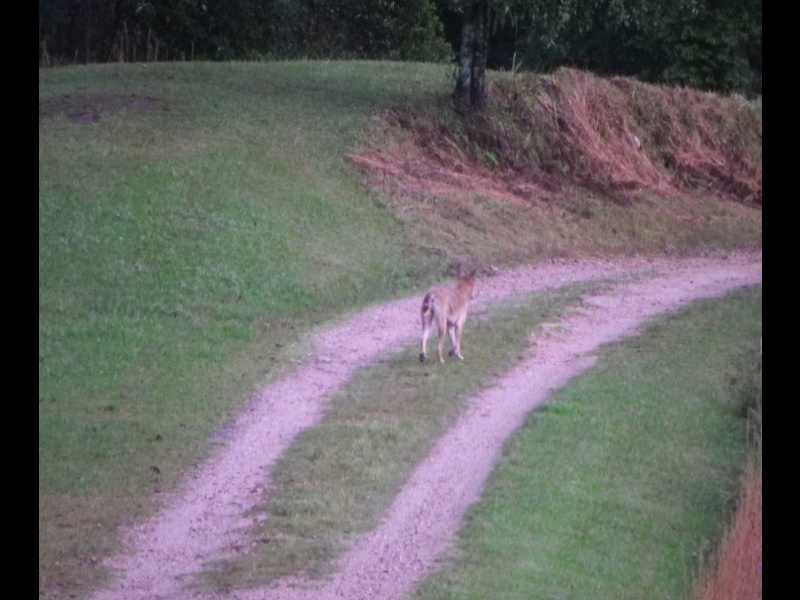dog: (414, 269, 479, 368)
